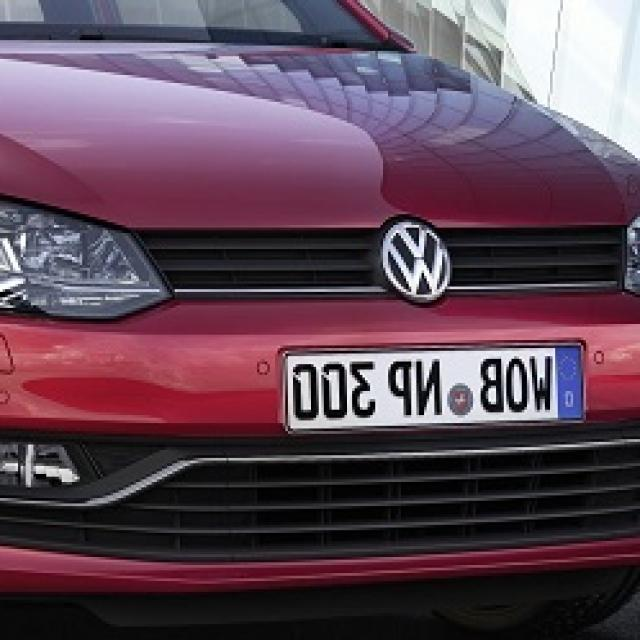license_plate: (274, 334, 589, 435)
